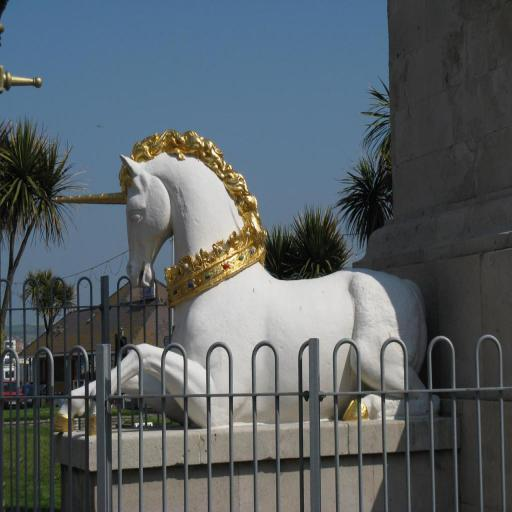Horse: (50, 128, 442, 432)
